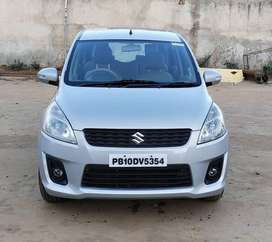PB10DV5354: (109, 153, 167, 166)
